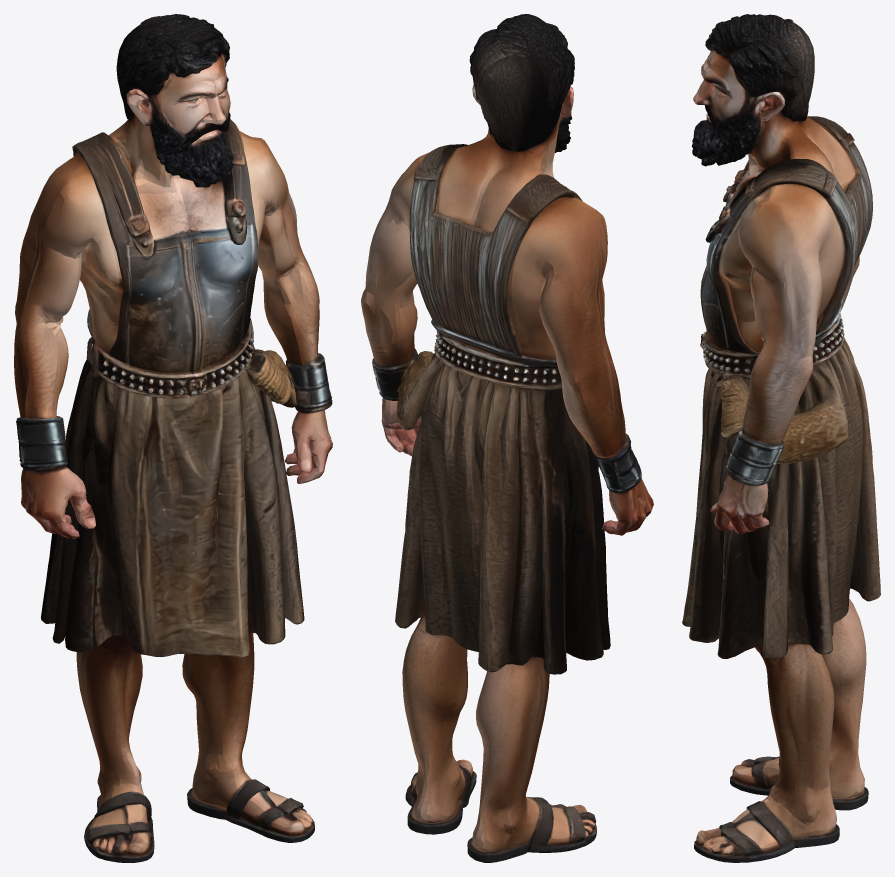
File: uruk_mason_rodin_source.glb
3 renders of one model, left to right at view 1: azimuth 30°, elevation 25°; view 2: azimuth 150°, elevation 25°; view 3: azimuth 270°, elevation 25°, orthographic. The views are drawn at different scales.
Parts seen in each view (by area): view 1: model; view 2: model; view 3: model.
Boxes of the visible parts, bbox=[...] form: model: bbox=[14, 14, 332, 862]; model: bbox=[361, 14, 653, 862]; model: bbox=[682, 14, 880, 862].
Bounding box in the file's own units: 0.6945 × 1.9 × 0.4322.
Materials: 1 (1 with a texture image).
